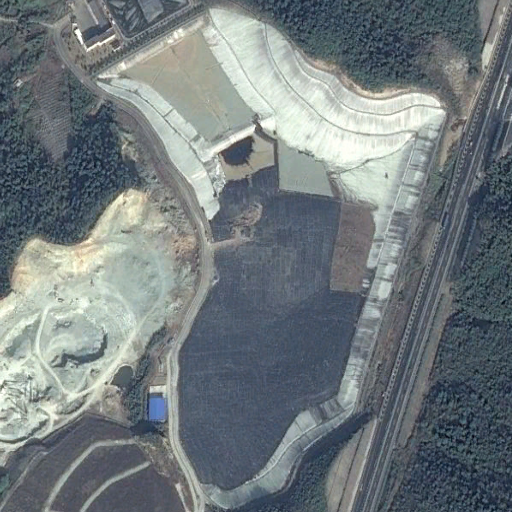lf: (93, 7, 447, 510)
